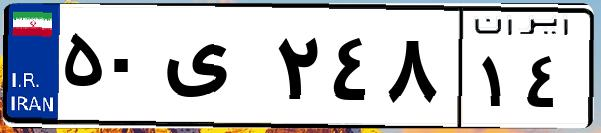0: (110, 28, 158, 98)
1: (475, 38, 525, 113)
2: (270, 28, 330, 110)
4: (330, 28, 385, 110), (525, 38, 570, 115)
5: (57, 26, 110, 100)
8: (385, 28, 445, 110)
ی: (158, 20, 270, 120)
